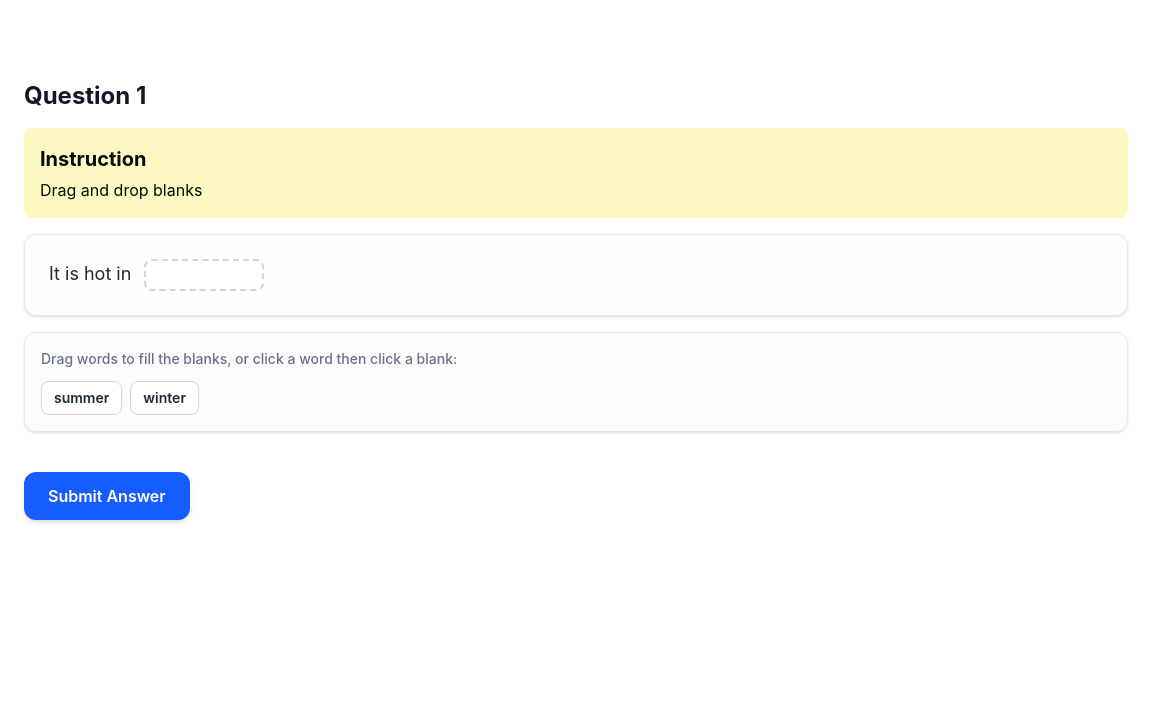
Test: QuestionPage - Fill in the Blanks › submits Drag and Drop type Fill in the Blanks
The width and height of the screenshot is (1152, 720).
// Click word then click blank
Click the button "summer" at (82, 398), box [41, 381, 122, 415]
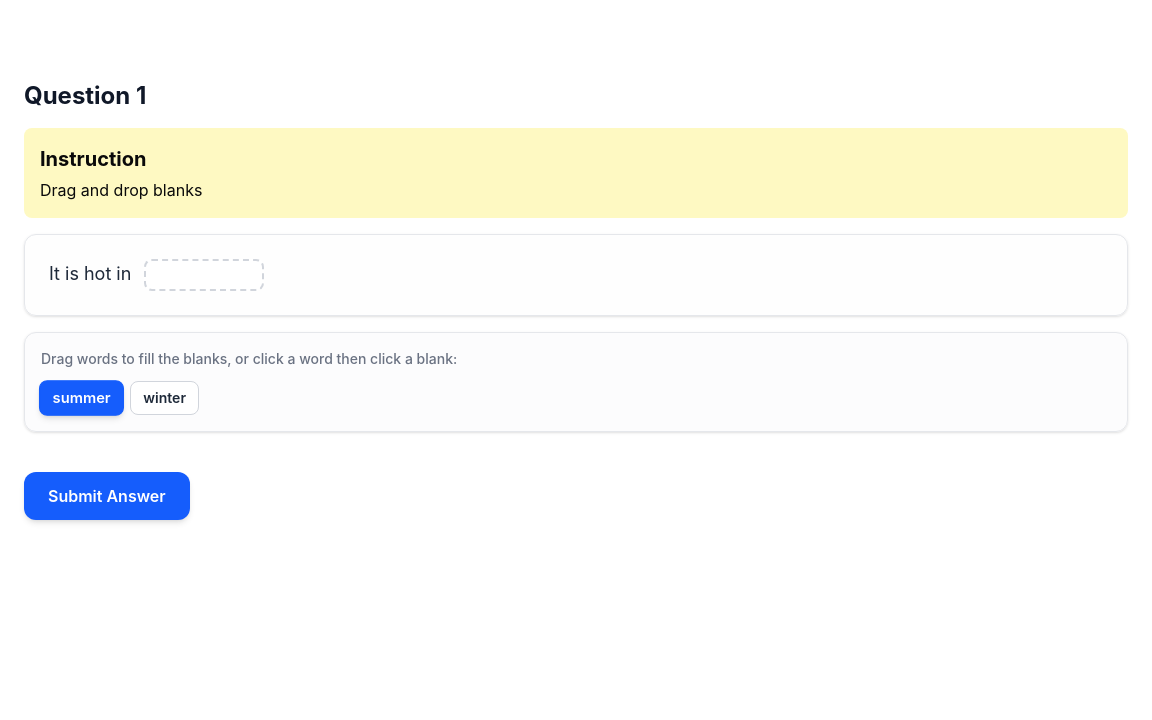
Click the element with class "inline-block" at (204, 275), box [144, 259, 264, 291]
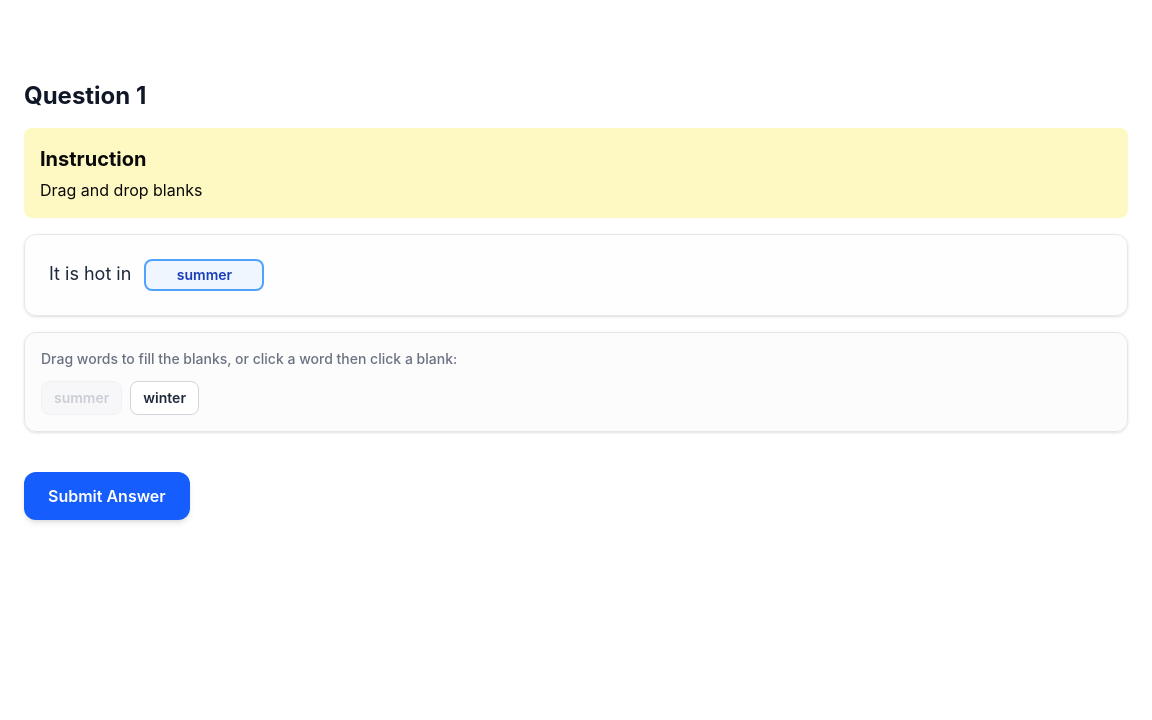
Click the button "Submit Answer" at (107, 496), box [24, 472, 190, 520]
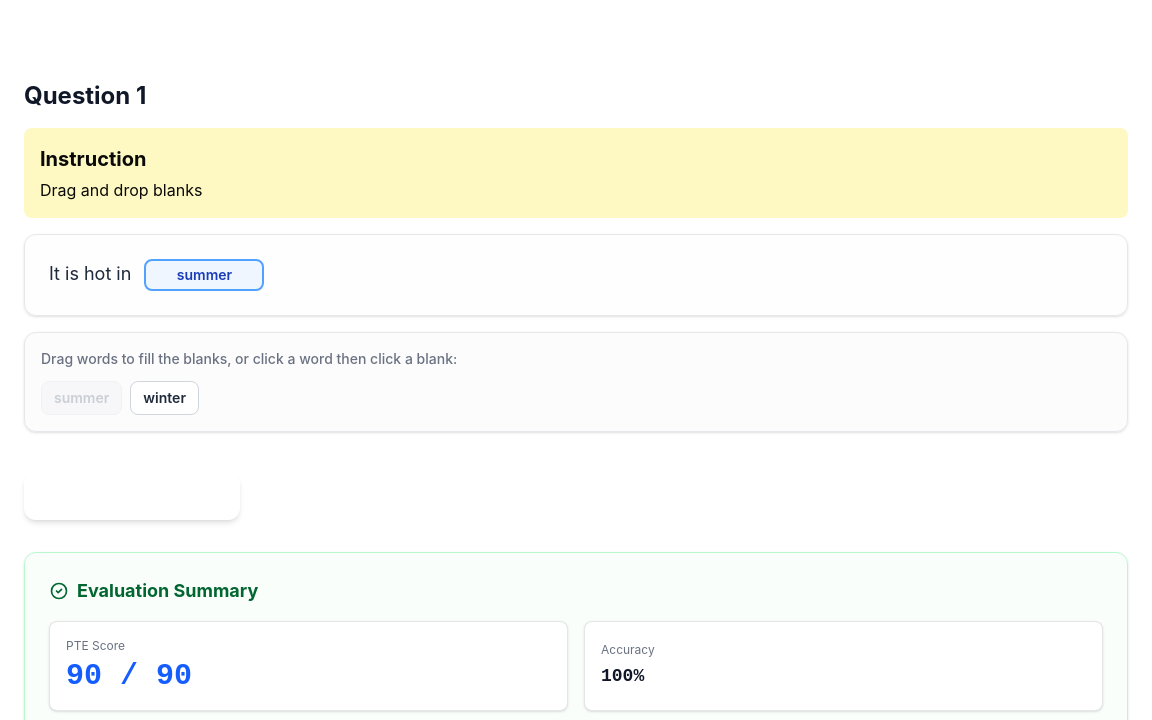
Check: the heading "Evaluation Summary" is shown, box [49, 580, 258, 601]
